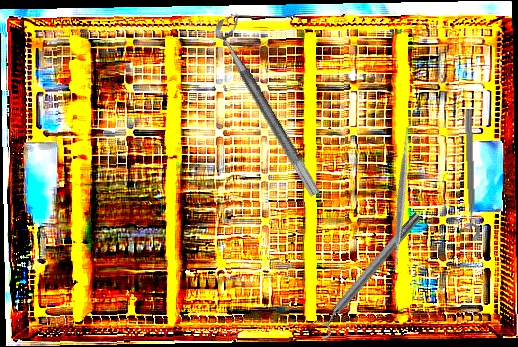Fixation Ring: (210, 11, 336, 198), (307, 207, 429, 342), (453, 108, 481, 242)
Spatula Surgical: (324, 121, 479, 276)
